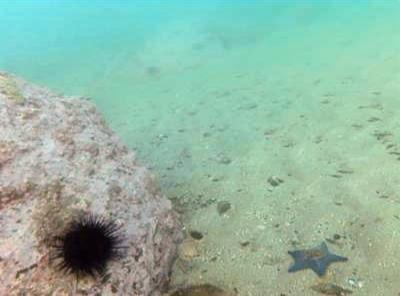urchin: (56, 218, 124, 280)
